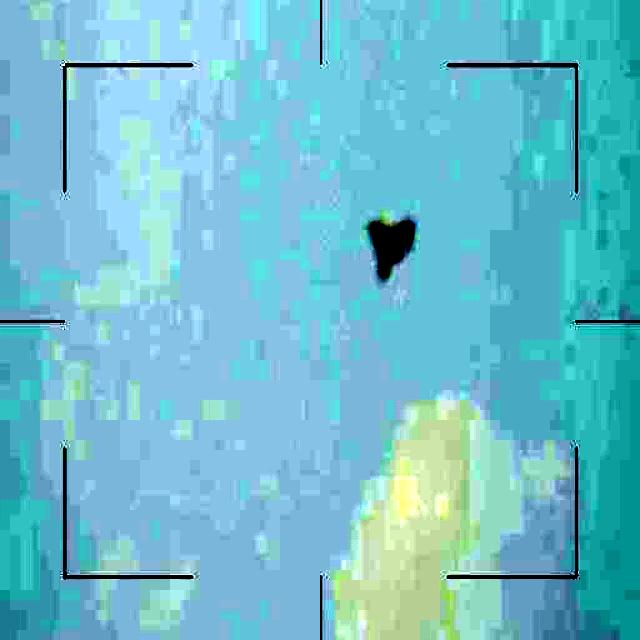bird: (366, 215, 419, 289)
